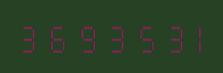five: (125, 20, 151, 53)
nine: (71, 20, 97, 53)
one: (179, 20, 205, 53)
six: (44, 20, 70, 53)
three: (17, 20, 43, 53), (98, 20, 124, 53), (152, 20, 178, 53)
